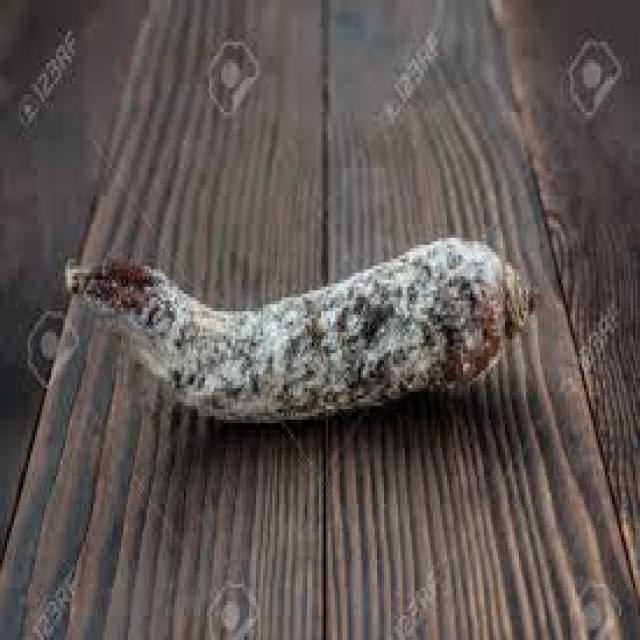Stale_Carrot: (97, 220, 545, 431)
